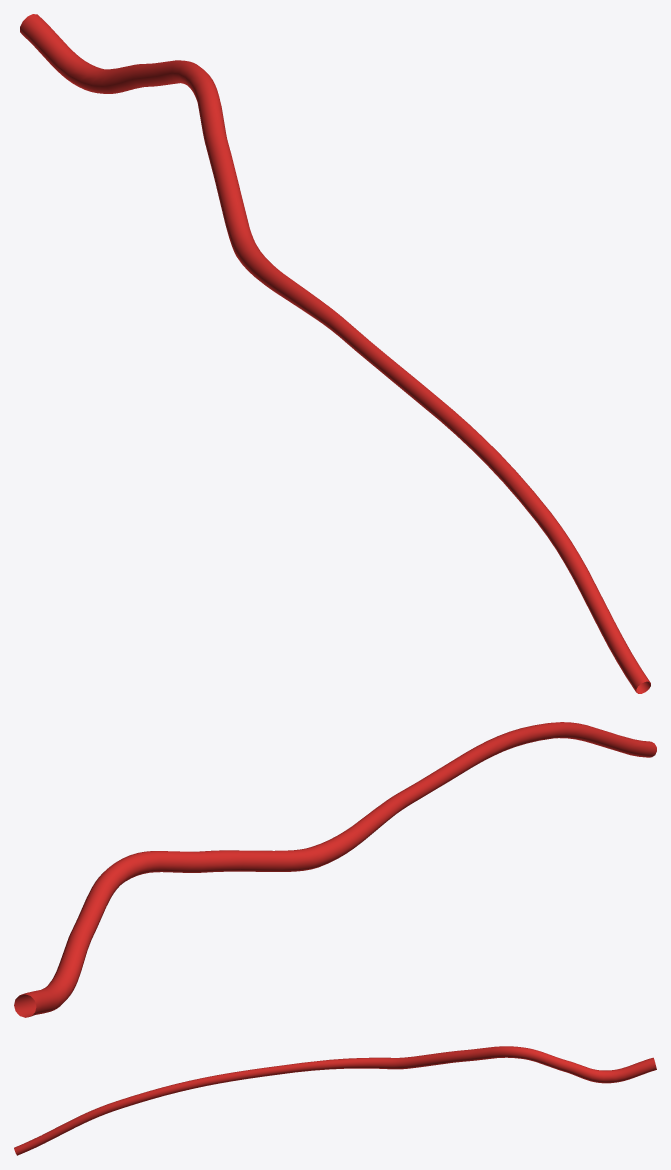
The model's file is circulatorio-medial-plantar-veins-l.glb.
3 views of the same model, one above another, from view 1: azimuth 30°, elevation 25°; view 2: azimuth 150°, elevation 25°; view 3: azimuth 270°, elevation 25° (orthographic). The views are drawn at different scales.
Parts seen in each view (by area): view 1: Medial plantar veins.l; view 2: Medial plantar veins.l; view 3: Medial plantar veins.l.
Part boxes in pixels (x1=…): Medial plantar veins.l: x1=20, y1=14, x2=650, y2=693; Medial plantar veins.l: x1=14, y1=722, x2=656, y2=1017; Medial plantar veins.l: x1=14, y1=1046, x2=656, y2=1155.
Size of the model in its own units: 0.00944 by 0.0209 by 0.0998.
